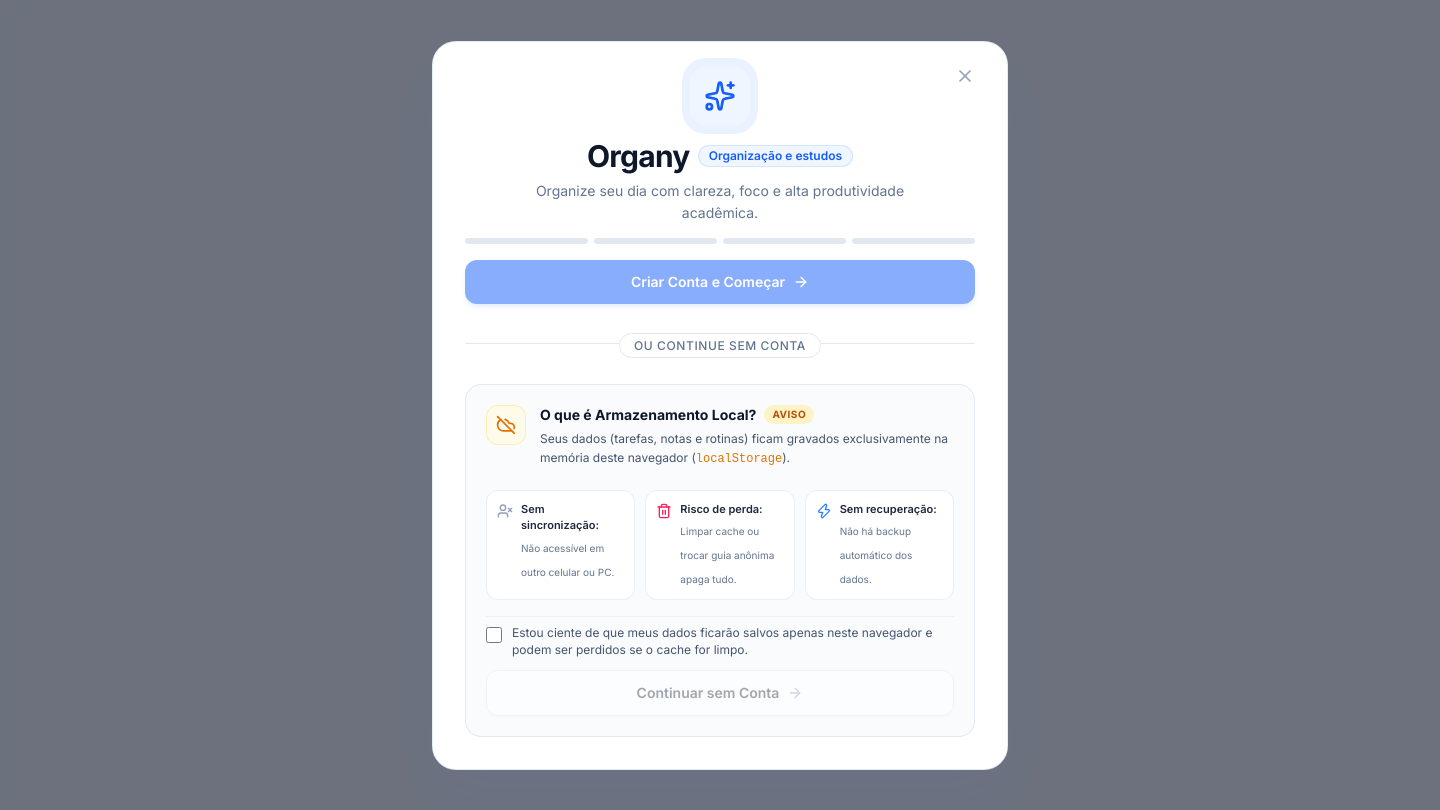
Test: AuthModal Component › mantém o botão Continuar sem Conta desabilitado até marcar o checkbox de consentimento
(page scrolled)
Expected: the button "Continuar sem Conta" is disabled, x1=486 y1=670 x2=954 y2=716
# Marca o checkbox
Click the checkbox labelled "Estou ciente de que meus dados ficarão salvos apenas neste navegador" at (494, 635), box x1=486 y1=627 x2=502 y2=643
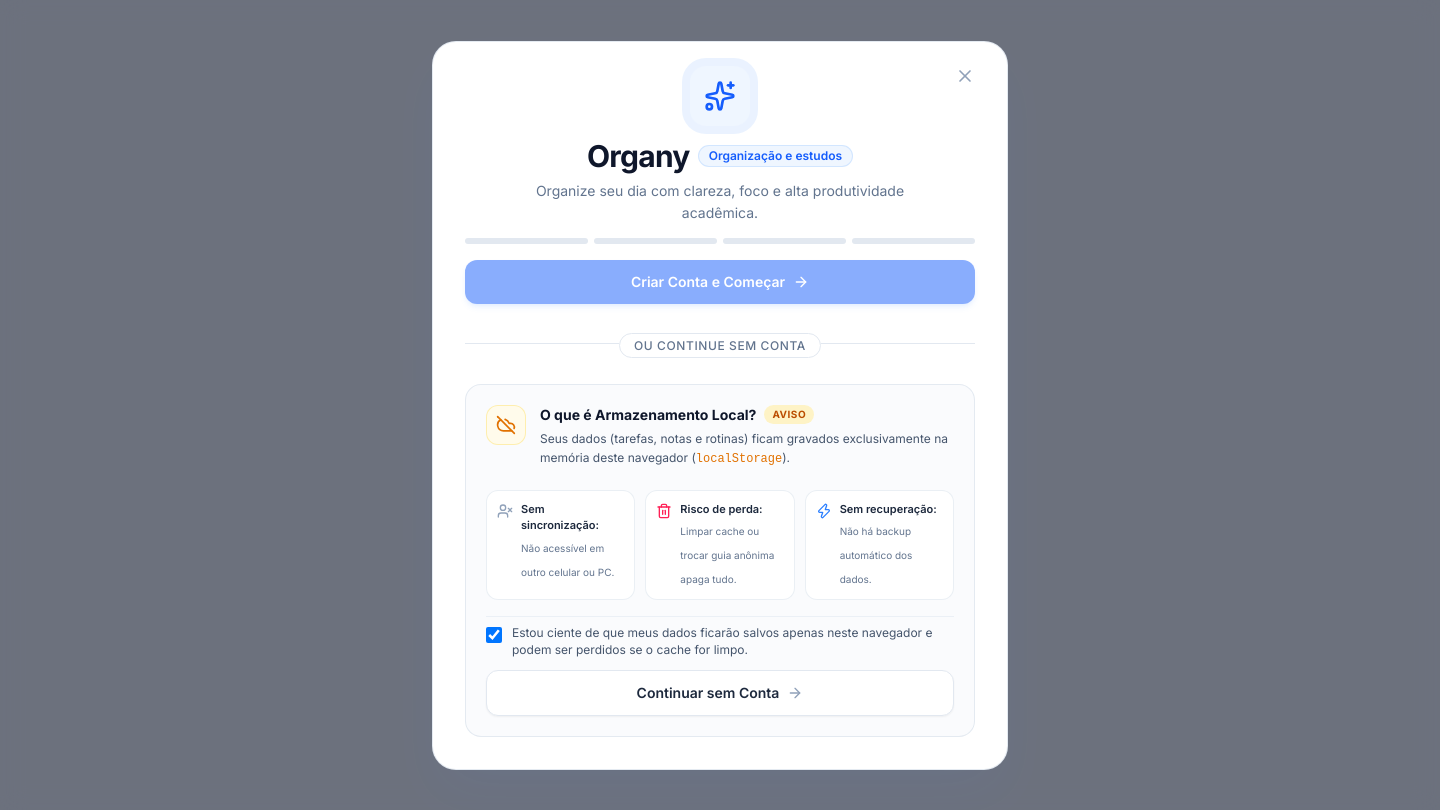
Expected: the checkbox labelled "Estou ciente de que meus dados ficarão salvos apenas neste navegador" is checked
Expected: the button "Continuar sem Conta" is enabled, x1=486 y1=670 x2=954 y2=716
# Desmarca o checkbox
Click the checkbox labelled "Estou ciente de que meus dados ficarão salvos apenas neste navegador" at (494, 635), box x1=486 y1=627 x2=502 y2=643
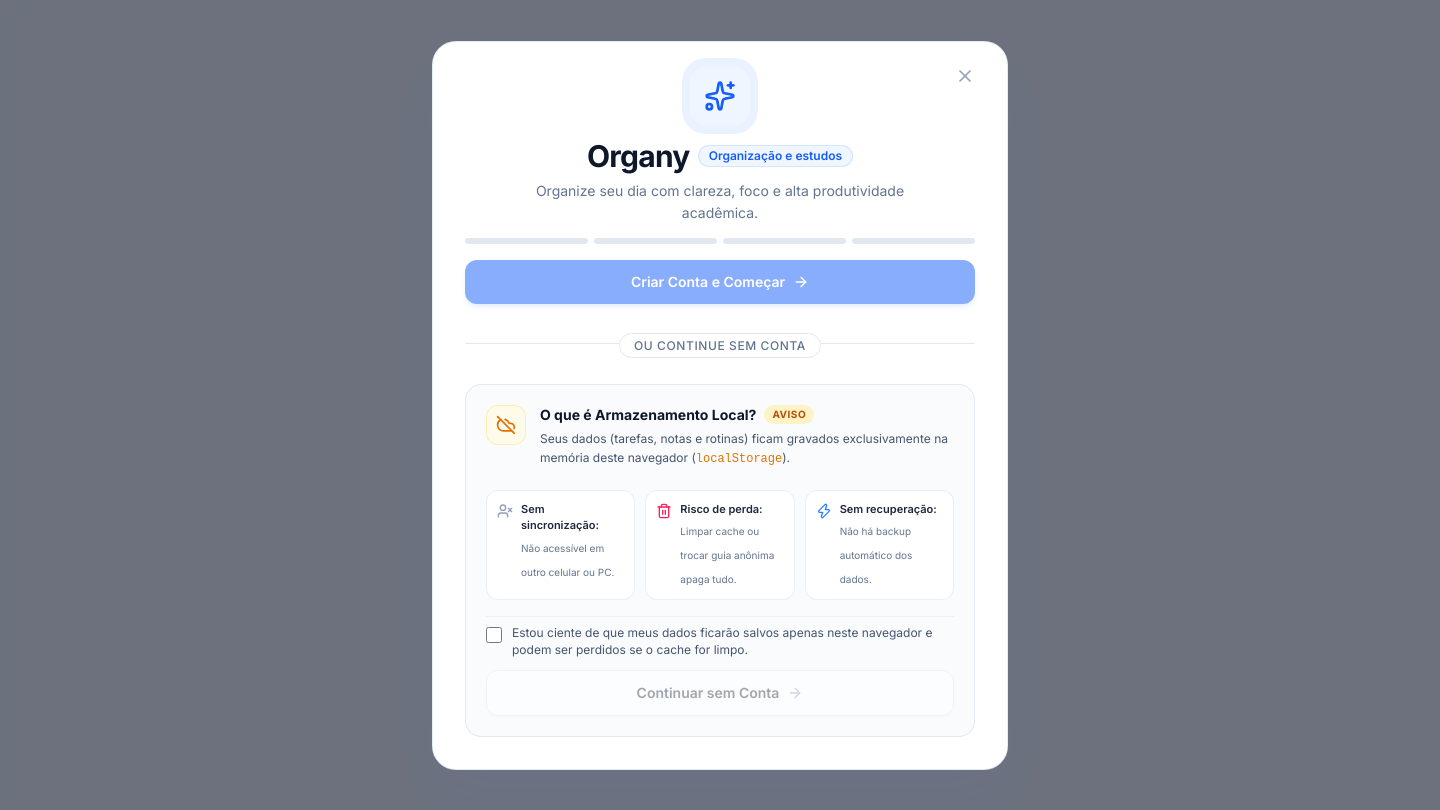
Expected: the checkbox labelled "Estou ciente de que meus dados ficarão salvos apenas neste navegador" is not checked, x1=486 y1=627 x2=502 y2=643
Expected: the button "Continuar sem Conta" is disabled, x1=486 y1=670 x2=954 y2=716
